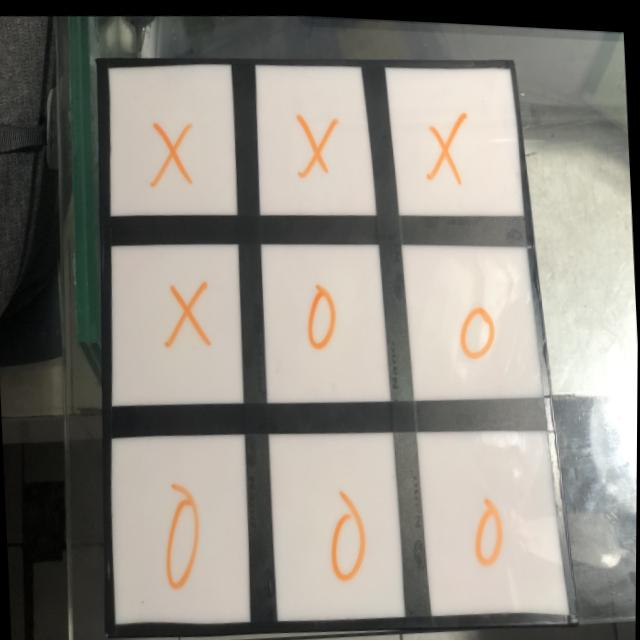o: (329, 494, 372, 587), (163, 490, 203, 587), (303, 277, 341, 353), (456, 295, 499, 357), (473, 491, 508, 564)
table: (89, 43, 582, 635)
x: (161, 277, 215, 350), (292, 102, 340, 178), (149, 115, 194, 191), (426, 102, 468, 183)
